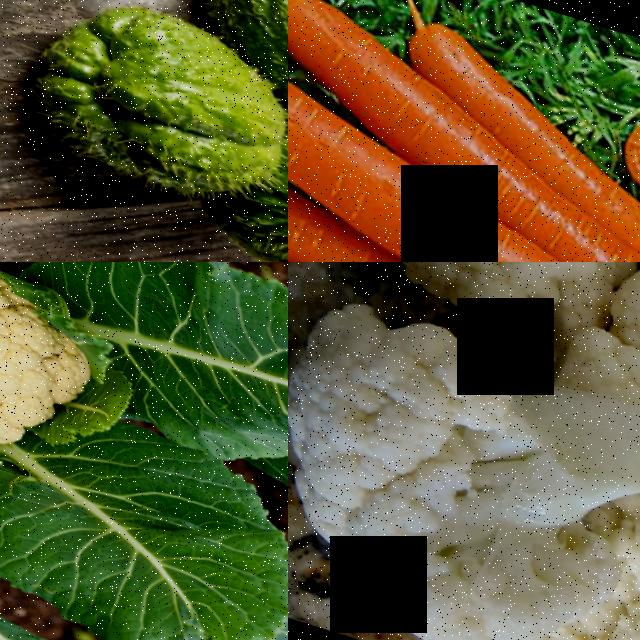carrot: (288, 120, 623, 262), (423, 17, 603, 133), (363, 84, 518, 188)
cauliflower: (288, 262, 640, 640), (0, 262, 128, 534), (288, 262, 640, 352), (516, 437, 640, 640)
chayote: (10, 0, 279, 214), (190, 0, 288, 130)
